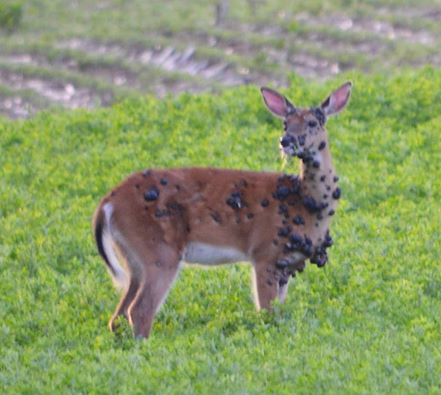Deer: (91, 79, 351, 353)
